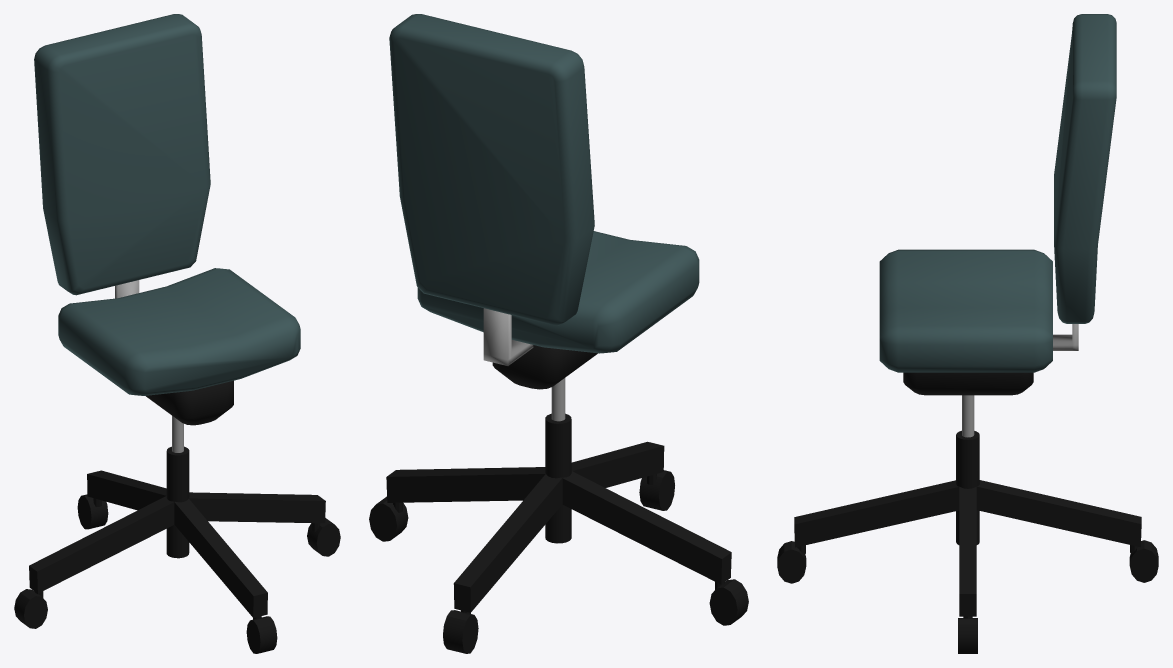
File: kontorstol.fbx
3 views of the same model, side by side, from view 1: azimuth 30°, elevation 25°; view 2: azimuth 150°, elevation 25°; view 3: azimuth 270°, elevation 25° (orthographic). The views are drawn at different scales.
Visible parts, largest first — view 1: Cube.002, Cylinder; view 2: Cube.002, Cylinder; view 3: Cube.002, Cylinder.
Part boxes in pixels (left/top/right/bottom): Cube.002: left=34, top=14, right=300, bottom=425; Cylinder: left=14, top=416, right=340, bottom=653; Cube.002: left=389, top=14, right=699, bottom=389; Cylinder: left=369, top=378, right=748, bottom=653; Cube.002: left=879, top=14, right=1116, bottom=395; Cylinder: left=777, top=395, right=1158, bottom=653.
Size of the model in its own units: 88.49 by 136 by 88.49.
